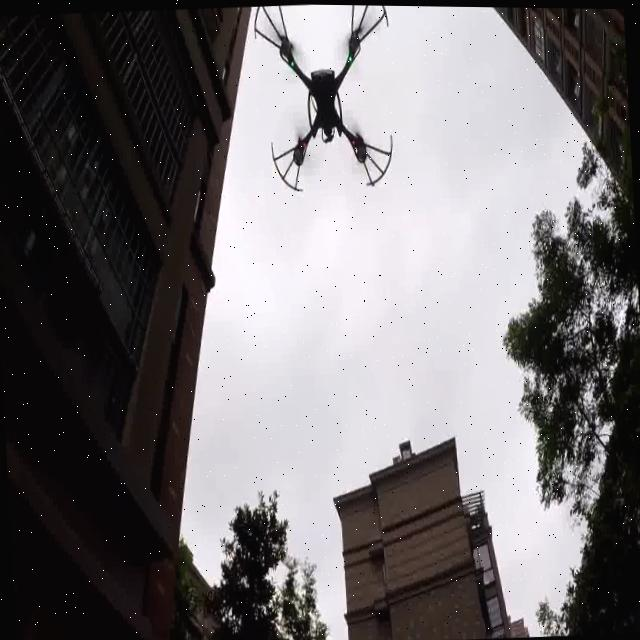drone: (249, 3, 402, 219)
